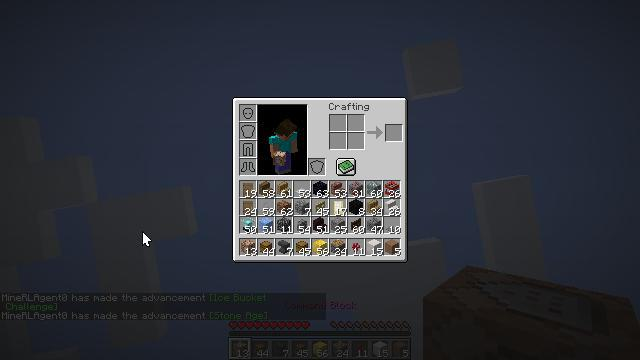cursor: (142, 231, 152, 247)
